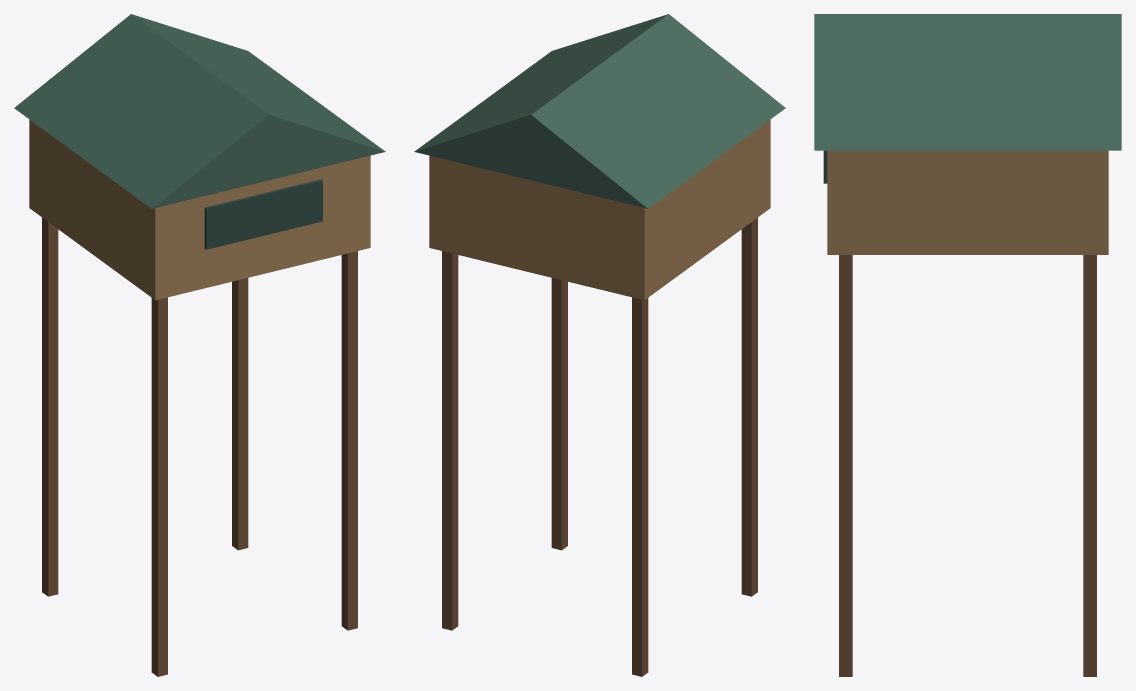
Rendered from ranger-tower.glb.
The picture shows the model from 3 angles, left to right: view 1: azimuth 30°, elevation 25°; view 2: azimuth 150°, elevation 25°; view 3: azimuth 270°, elevation 25°; orthographic projection. The views are drawn at different scales.
Visible parts, largest first — view 1: ranger-tower; view 2: ranger-tower; view 3: ranger-tower.
Part boxes in pixels (x1=…): ranger-tower: x1=14, y1=14, x2=385, y2=676; ranger-tower: x1=414, y1=14, x2=785, y2=676; ranger-tower: x1=814, y1=14, x2=1121, y2=676.
Bounding box in the file's own units: 3.7 × 8.24 × 3.77.
